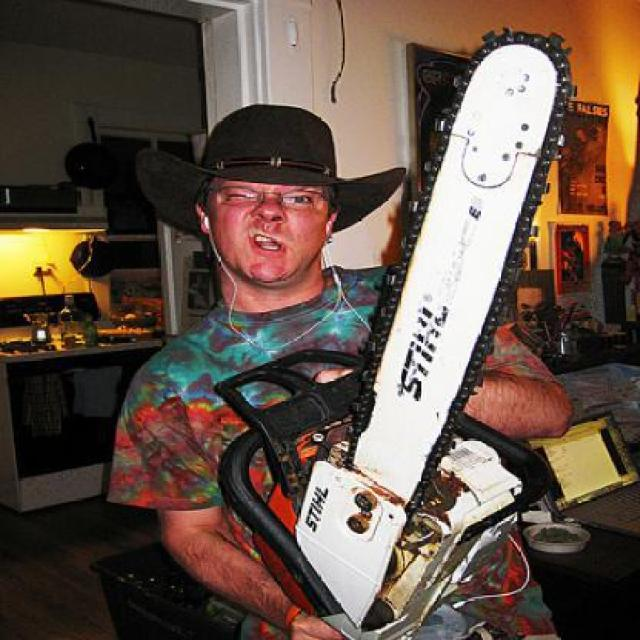Chainsaw: (205, 32, 597, 640)
